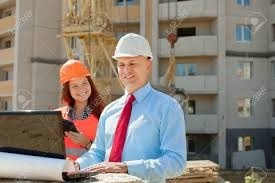helmet: (109, 31, 158, 65), (57, 56, 96, 89)
person with full safety: (74, 31, 189, 179)
person with partial safety: (49, 56, 107, 130)
safety vest: (58, 108, 100, 158)
